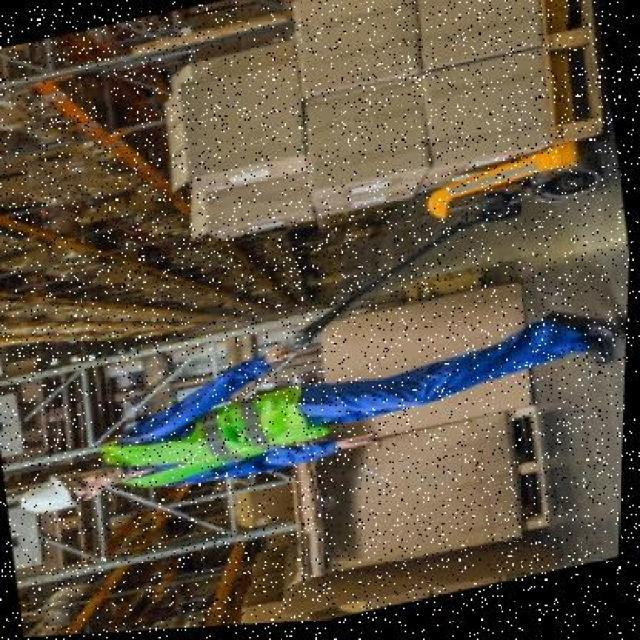helmet: (15, 468, 97, 524)
vest: (91, 362, 338, 507)
